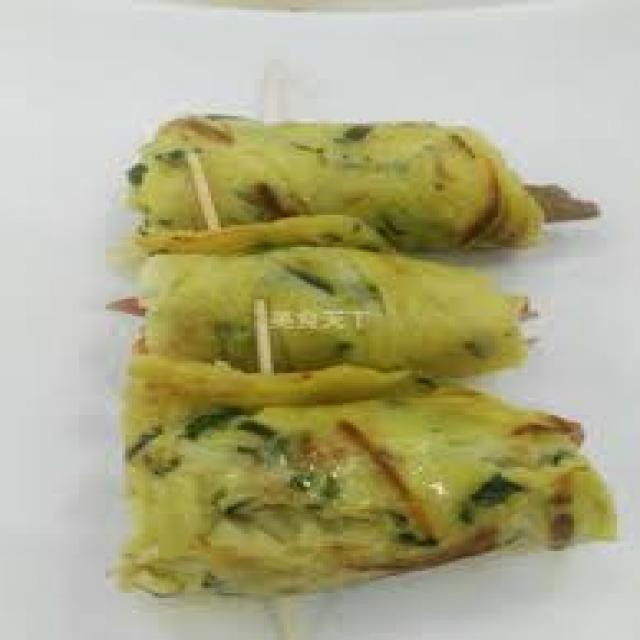organic waste: (112, 351, 617, 595), (125, 109, 597, 247), (106, 240, 534, 378)
